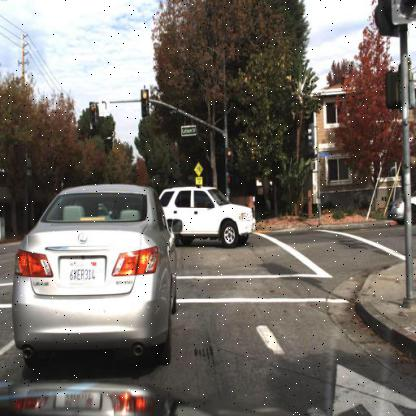car: (14, 185, 174, 361), (156, 187, 257, 246)
trafficLight-Red: (141, 86, 150, 122), (225, 147, 233, 173)
trafficLight-RedLeft: (89, 98, 98, 130)
